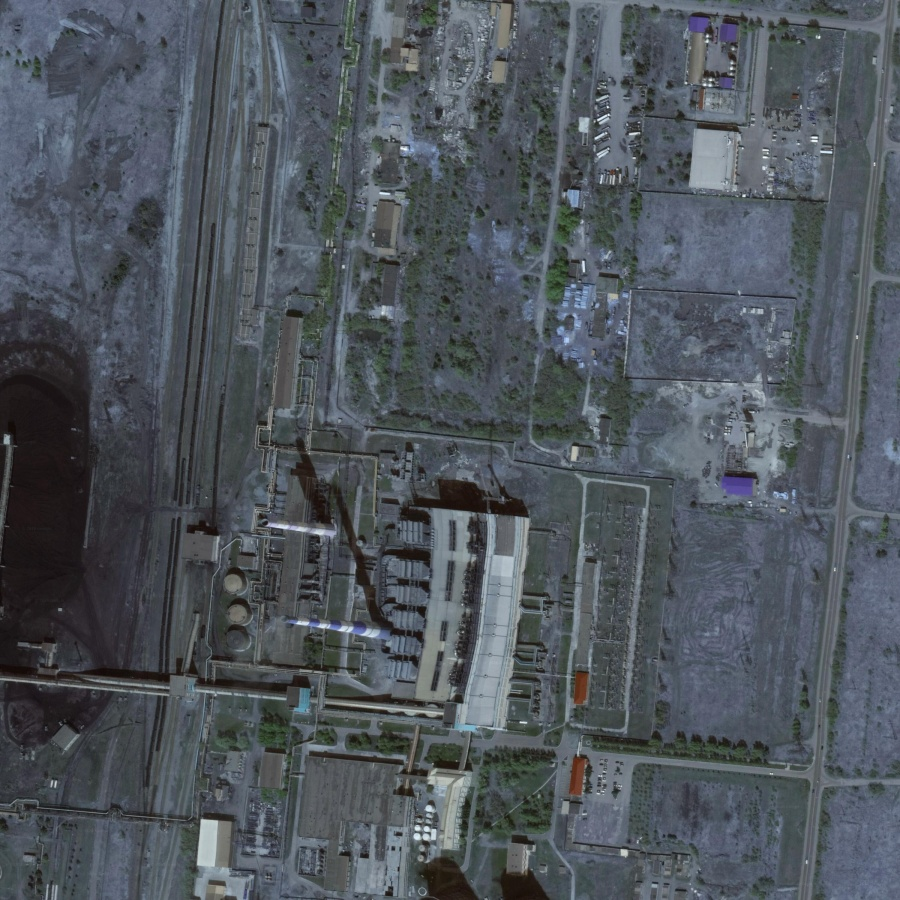PowerPlant: (242, 426, 431, 688)
